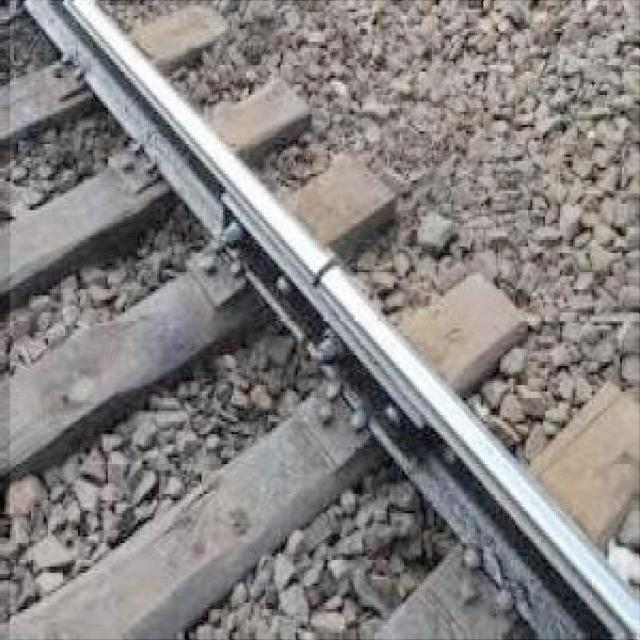rail: (12, 3, 640, 640)
